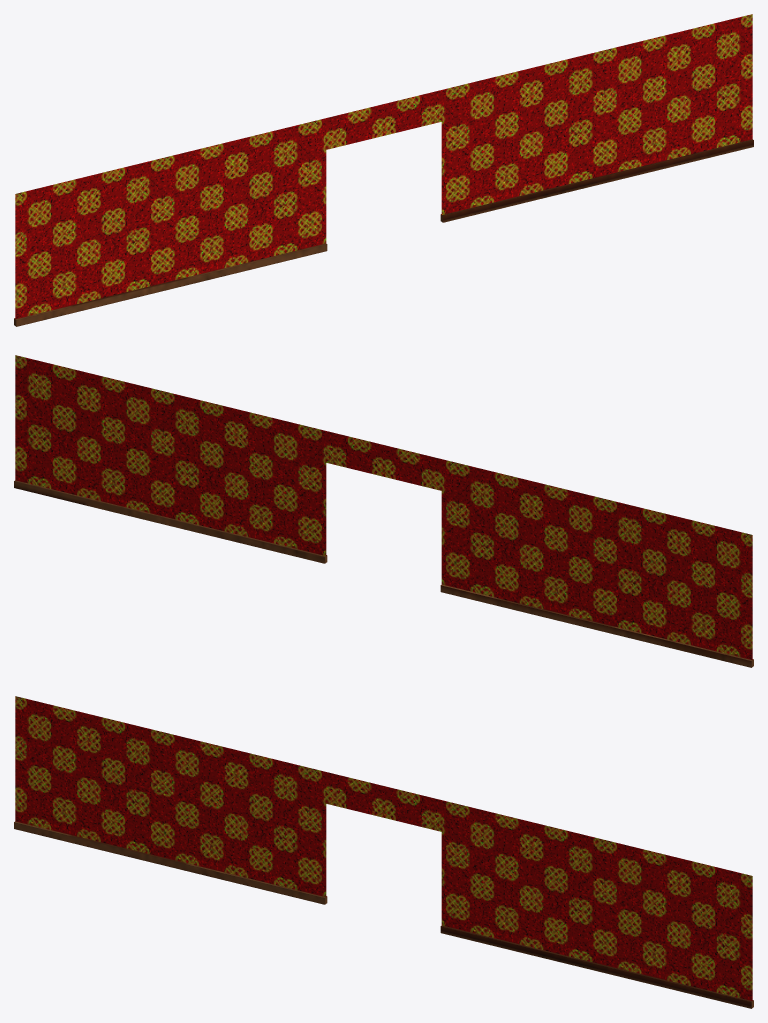
Rendered from BackWall 1.fbx.
The picture shows the model from 3 angles, top to bottom: view 1: azimuth 30°, elevation 25°; view 2: azimuth 150°, elevation 25°; view 3: azimuth 330°, elevation 25°; orthographic projection.
Visible parts, largest first — view 1: BackWall; view 2: BackWall; view 3: BackWall.
Boxes of the visible parts, x1=… form: BackWall: x1=14, y1=14, x2=753, y2=326; BackWall: x1=14, y1=355, x2=753, y2=667; BackWall: x1=14, y1=696, x2=753, y2=1008.
Size of the model in its own units: 1198 by 205 by 6.98.
